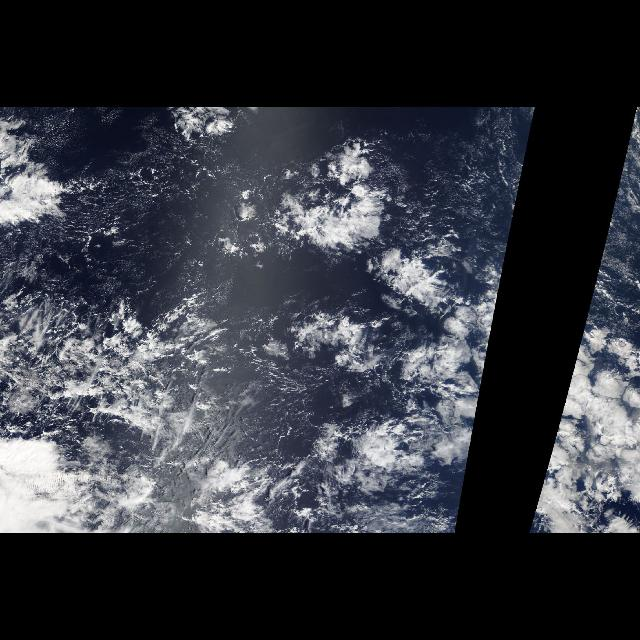Flower: (338, 284, 502, 530), (530, 284, 636, 530)
Sugar: (46, 161, 270, 311)
